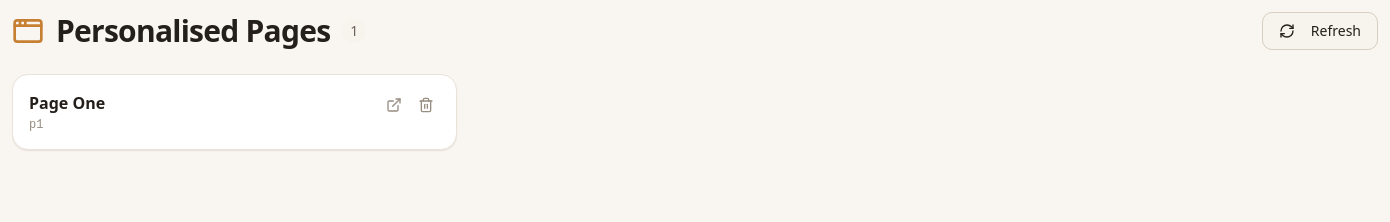
Test case: refetch when the route becomes active › PersonalisedPages delete failures are shown inline, not via alert()
This screenshot has width=1390, height=222.
Expected: the heading "Page One" is shown, [29, 92, 105, 114]
Step 1. Click the button named "Delete page" → click(426, 105), box [412, 91, 440, 119]
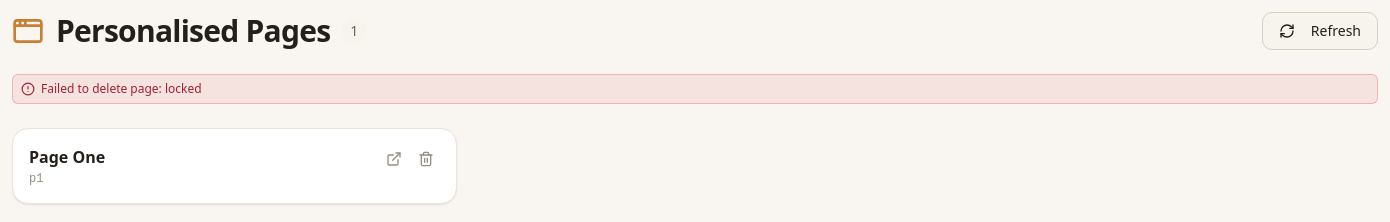
Expected: the text "Failed to delete page: locked" is shown, [41, 81, 202, 97]
